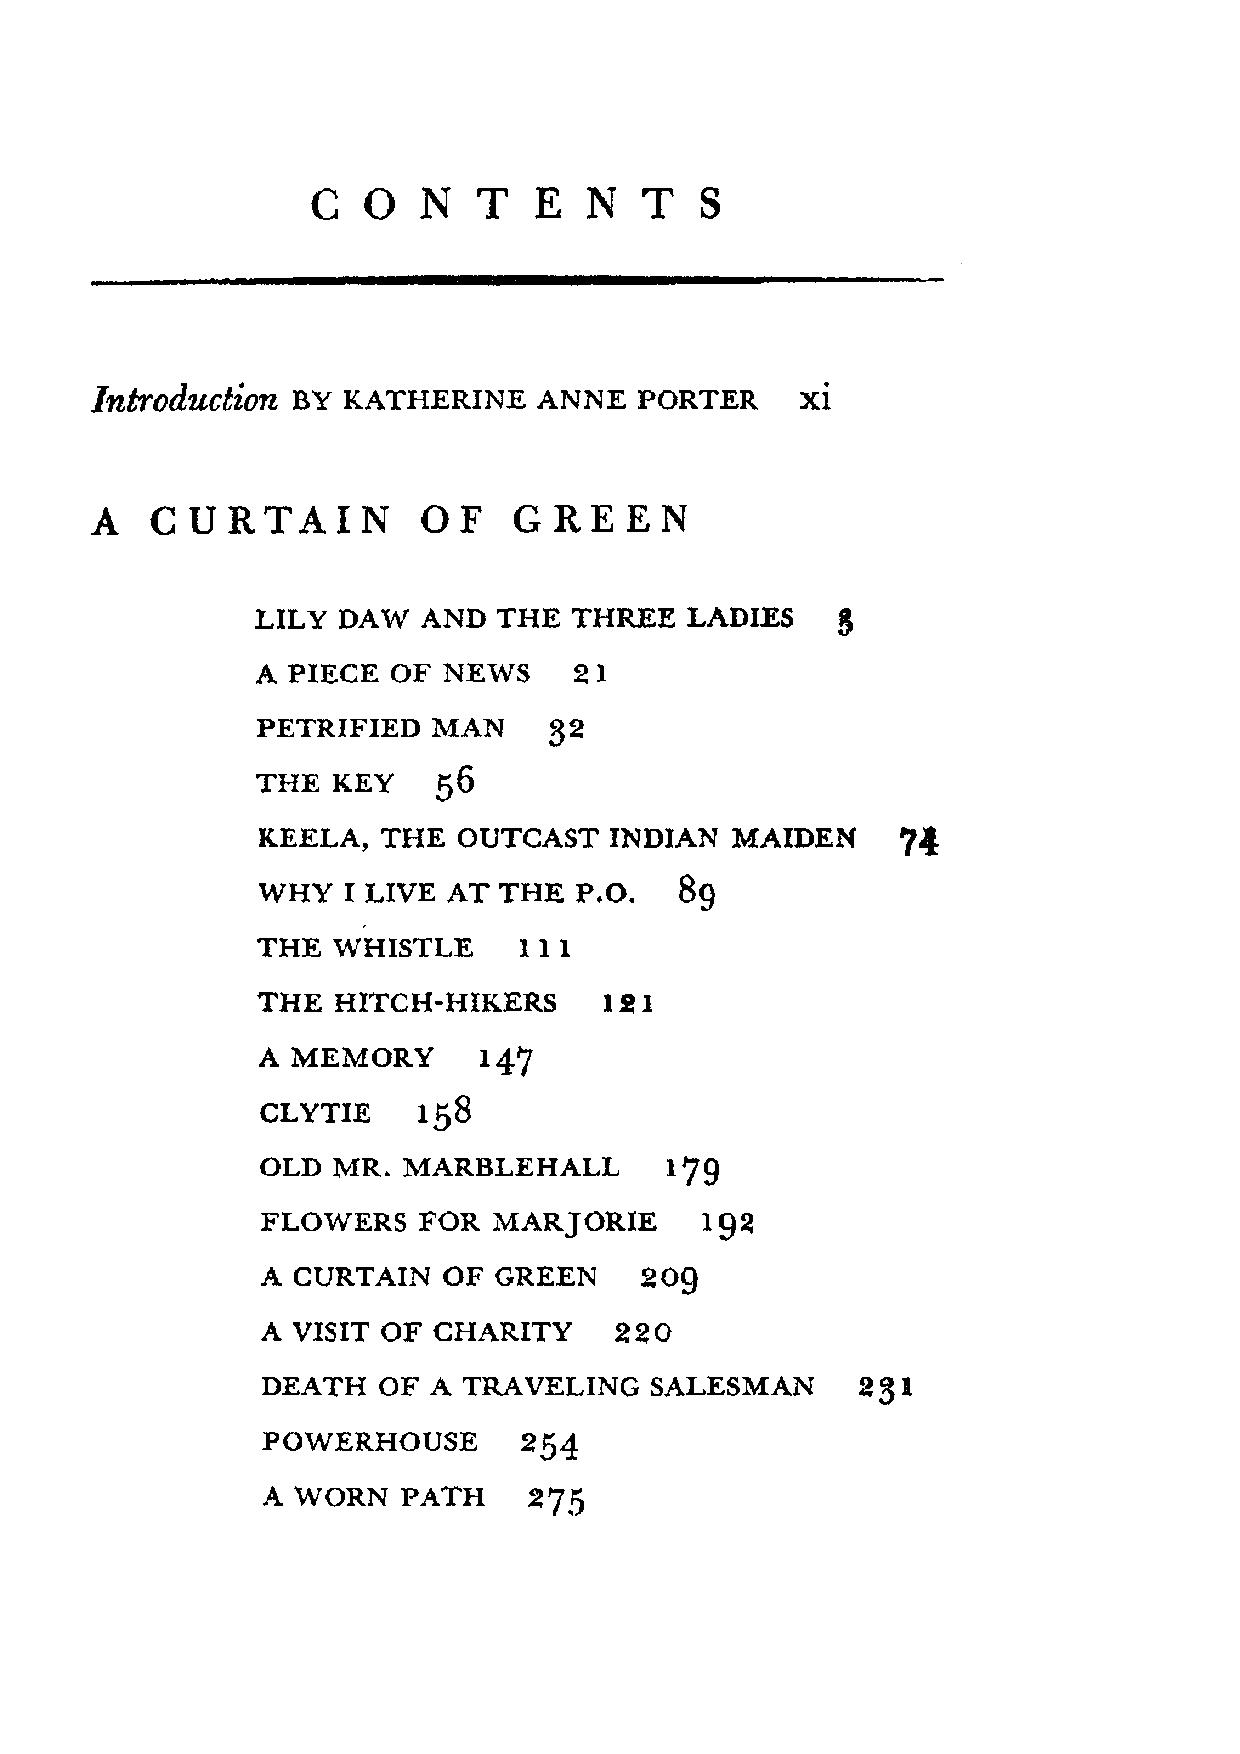TOC_chapter: (85, 369, 760, 419), (81, 503, 692, 545), (246, 599, 817, 640), (255, 820, 860, 854), (264, 1369, 815, 1397), (258, 1145, 625, 1186), (258, 1206, 667, 1240), (258, 874, 633, 909), (248, 982, 562, 1019), (258, 701, 505, 746), (258, 1317, 581, 1350), (258, 1260, 600, 1291), (259, 1424, 480, 1457), (264, 1479, 493, 1510), (259, 1035, 435, 1074), (258, 662, 526, 684), (255, 933, 483, 960), (252, 761, 407, 794), (258, 1092, 366, 1133)
TOC_pagenumber: (513, 1424, 590, 1464), (596, 976, 666, 1019), (474, 1035, 539, 1078), (848, 1372, 914, 1410), (527, 1482, 593, 1519), (639, 1261, 710, 1295), (612, 1314, 678, 1347), (429, 761, 479, 803), (701, 1206, 758, 1241), (798, 369, 833, 421), (419, 1096, 472, 1130), (896, 820, 941, 860), (513, 933, 574, 960), (670, 1155, 717, 1190), (679, 871, 717, 913), (832, 590, 860, 641), (546, 713, 581, 752), (565, 656, 612, 684)
chapter: (305, 174, 735, 225)
